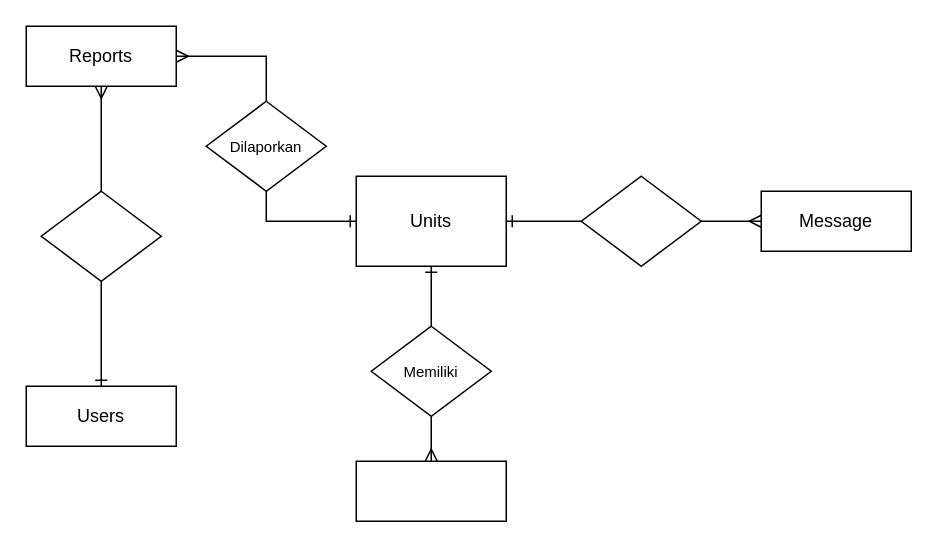
Image size: 938x548. Some labels were removed from this diagram. Each missing label, with the centre of its shape:
"Membuat" goes at point (100, 235).
"Menerima" goes at point (640, 220).
"ratings" goes at point (430, 490).
